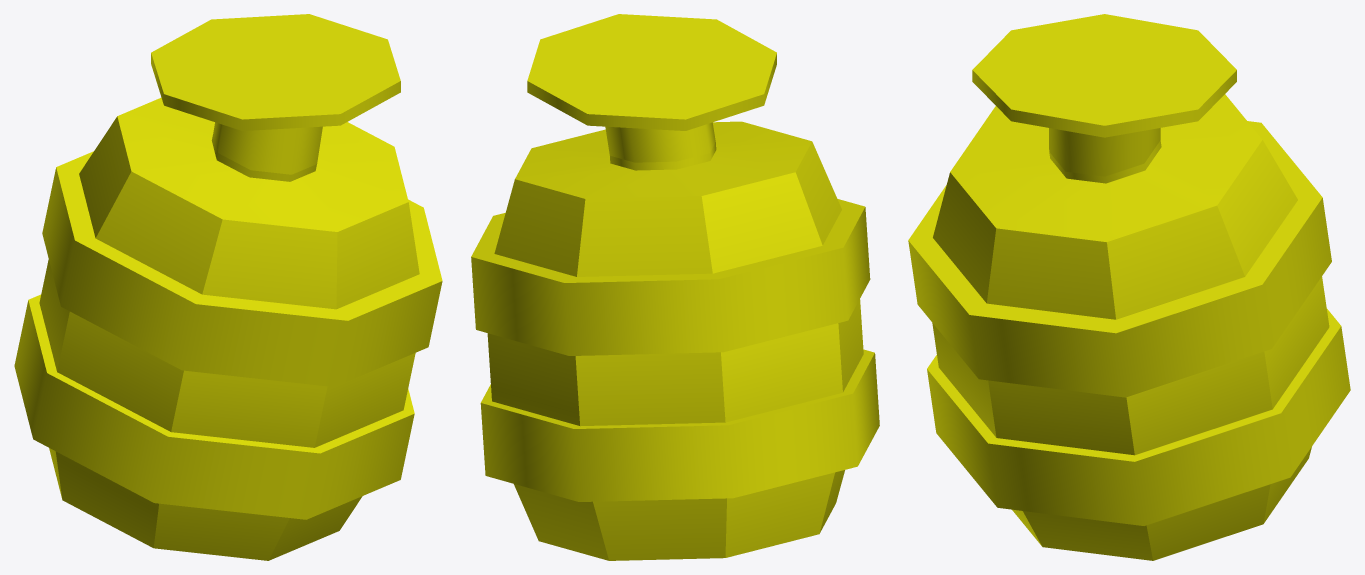
The model's file is ATA_Trophy.fbx.
3 renders of one model, left to right at view 1: azimuth 30°, elevation 25°; view 2: azimuth 150°, elevation 25°; view 3: azimuth 270°, elevation 25°, orthographic. The views are drawn at different scales.
Parts seen in each view (by area): view 1: barrel; view 2: barrel; view 3: barrel.
Part boxes in pixels (bbox=[...]): barrel: bbox=[14, 14, 442, 560]; barrel: bbox=[471, 14, 879, 560]; barrel: bbox=[908, 14, 1350, 560].
Size of the model in its own units: 55.34 by 63.01 by 54.86.
